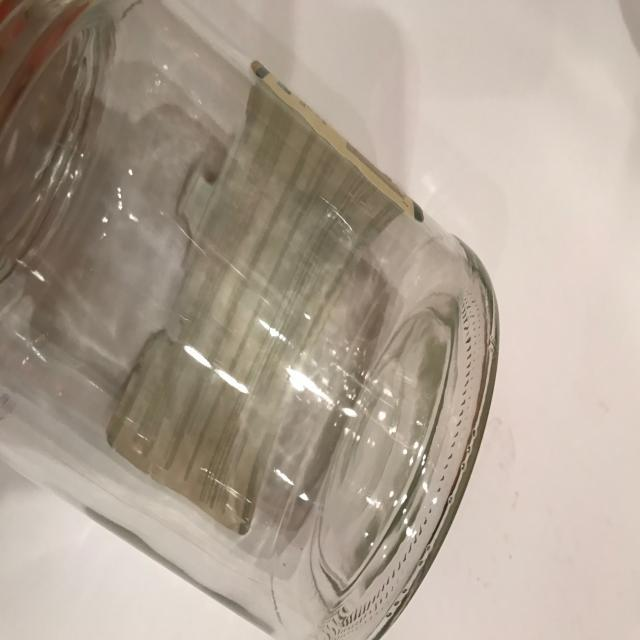glass: (0, 1, 498, 640)
